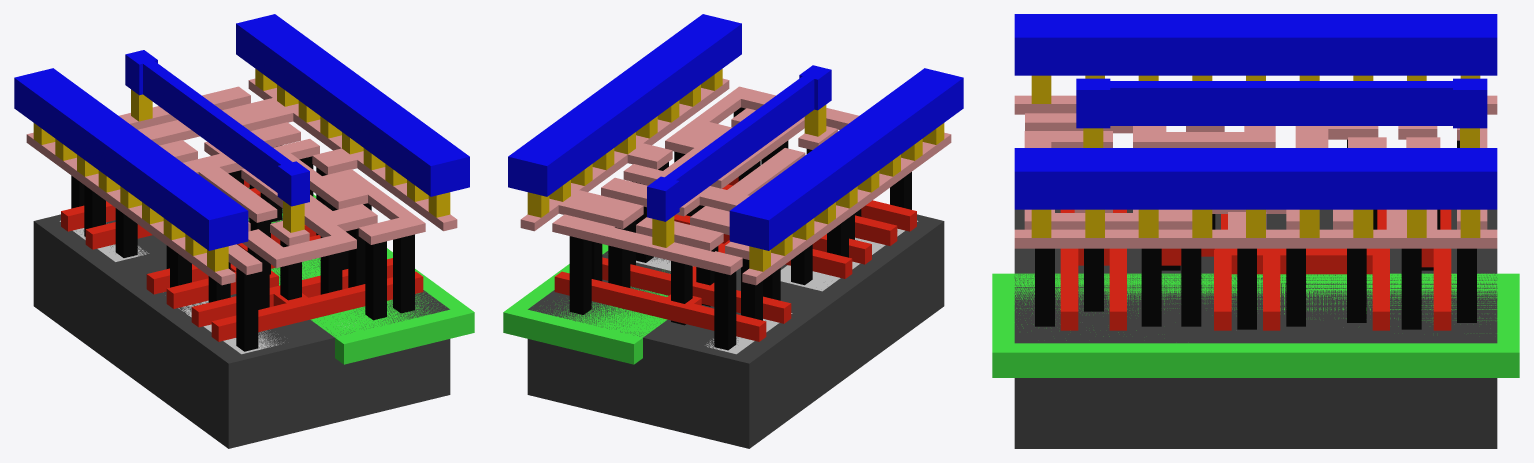
File: sky130_fd_sc_hd__ebufn_2.obj
3 renders of one model, left to right at view 1: azimuth 30°, elevation 25°; view 2: azimuth 150°, elevation 25°; view 3: azimuth 270°, elevation 25°, orthographic. The views are drawn at different scales.
Visible parts, largest first — view 1: subs, metal1, li, licon, poly, nwell, mcon, diff; view 2: subs, metal1, li, licon, poly, mcon, nwell, diff; view 3: metal1, subs, nwell, li, licon, poly, mcon.
Boxes of the visible parts, bbox=[...] form: subs: bbox=[33, 187, 450, 448]; metal1: bbox=[14, 14, 469, 250]; li: bbox=[26, 78, 457, 285]; licon: bbox=[71, 145, 414, 351]; poly: bbox=[61, 180, 423, 341]; nwell: bbox=[248, 188, 474, 364]; mcon: bbox=[33, 68, 450, 271]; diff: bbox=[59, 220, 283, 354]; subs: bbox=[527, 214, 944, 448]; metal1: bbox=[508, 14, 963, 250]; li: bbox=[520, 78, 951, 285]; licon: bbox=[569, 107, 911, 350]; poly: bbox=[554, 177, 916, 341]; mcon: bbox=[527, 68, 944, 271]; nwell: bbox=[503, 244, 669, 364]; diff: bbox=[705, 220, 918, 354]; metal1: bbox=[1014, 14, 1497, 209]; subs: bbox=[1014, 209, 1497, 448]; nwell: bbox=[992, 273, 1519, 377]; li: bbox=[1014, 95, 1497, 248]; licon: bbox=[1035, 139, 1476, 329]; poly: bbox=[1060, 209, 1451, 330]; mcon: bbox=[1031, 75, 1480, 237].
Bounding box in the file's own units: 3.2 × 2.74 × 4.52.
